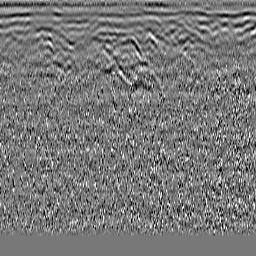cavity: (120, 33, 141, 58)
